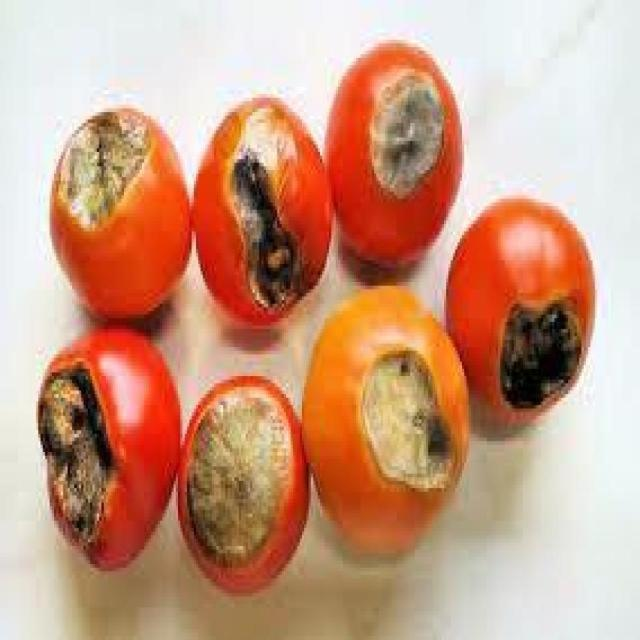Blossom End Rot Fruit: (50, 82, 361, 316)
